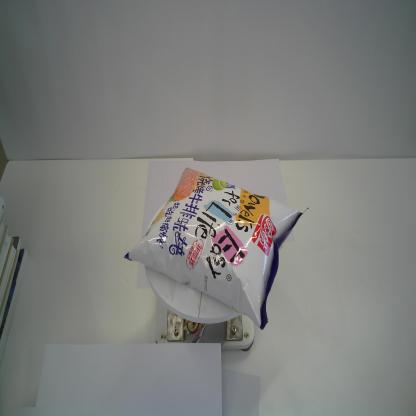Puffed Food: (122, 167, 310, 332)
